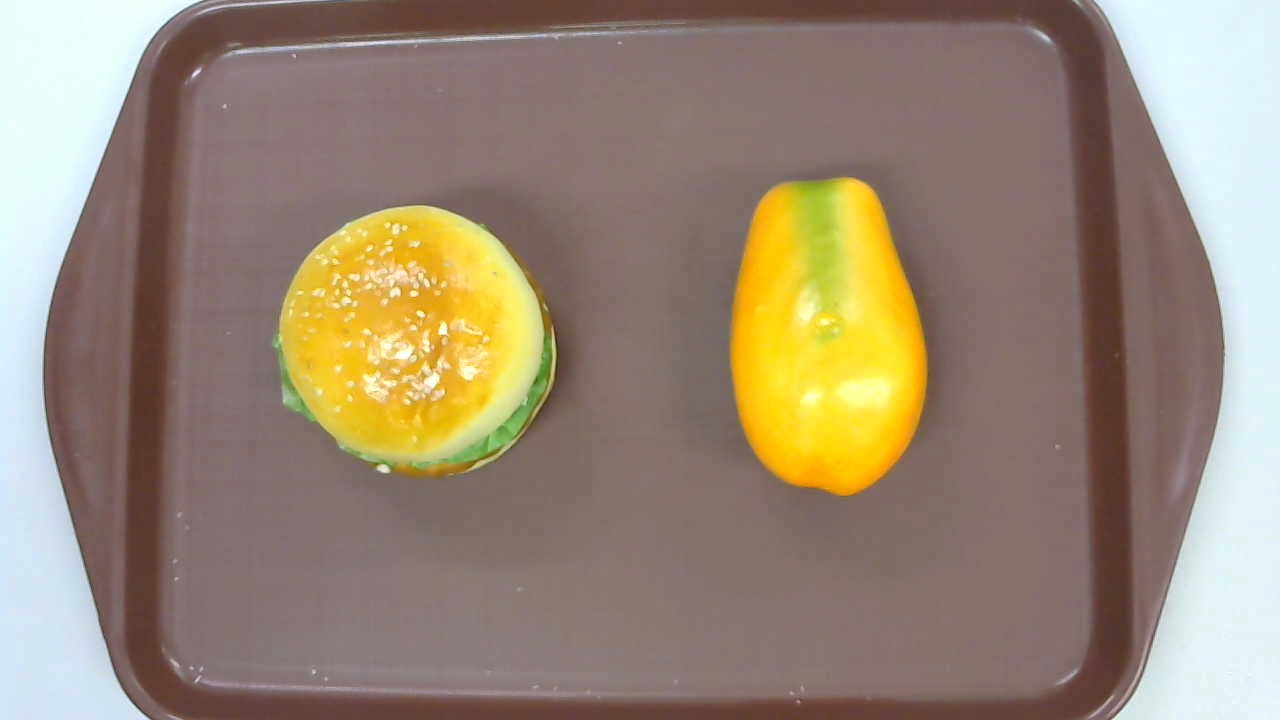hamburger: (273, 203, 560, 478)
papya: (727, 175, 928, 496)
